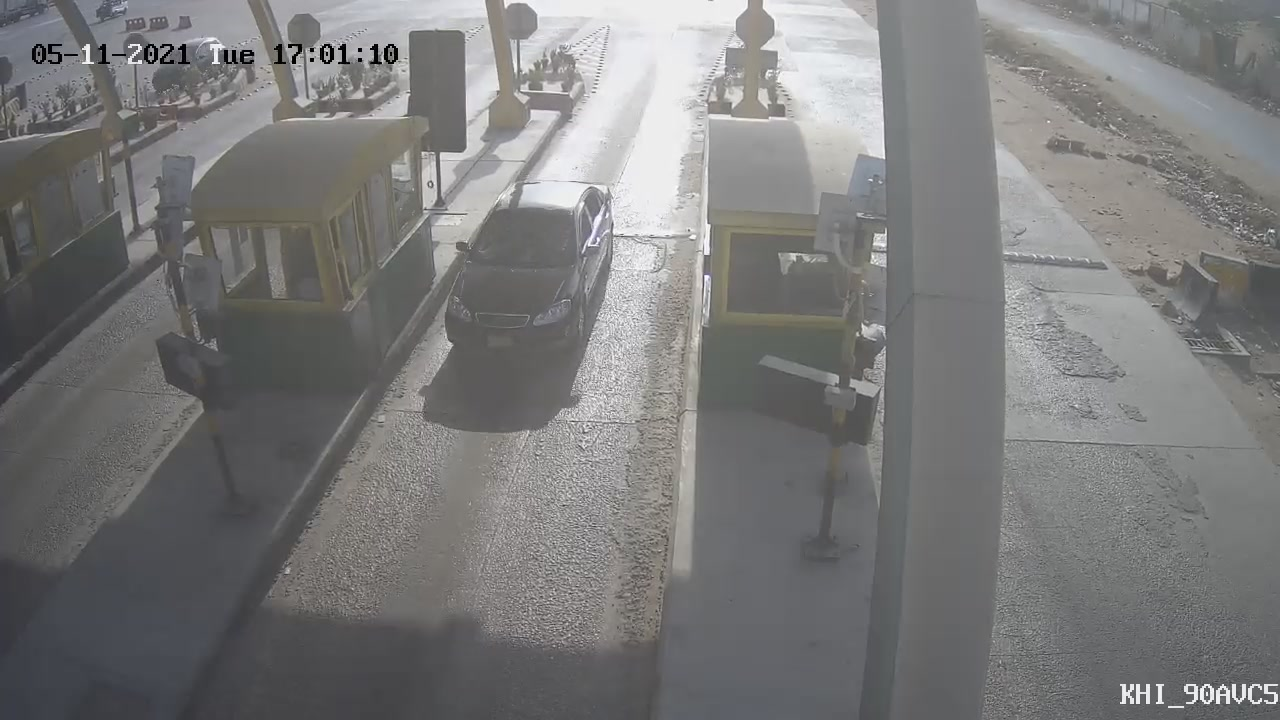F1: (421, 151, 635, 383)
